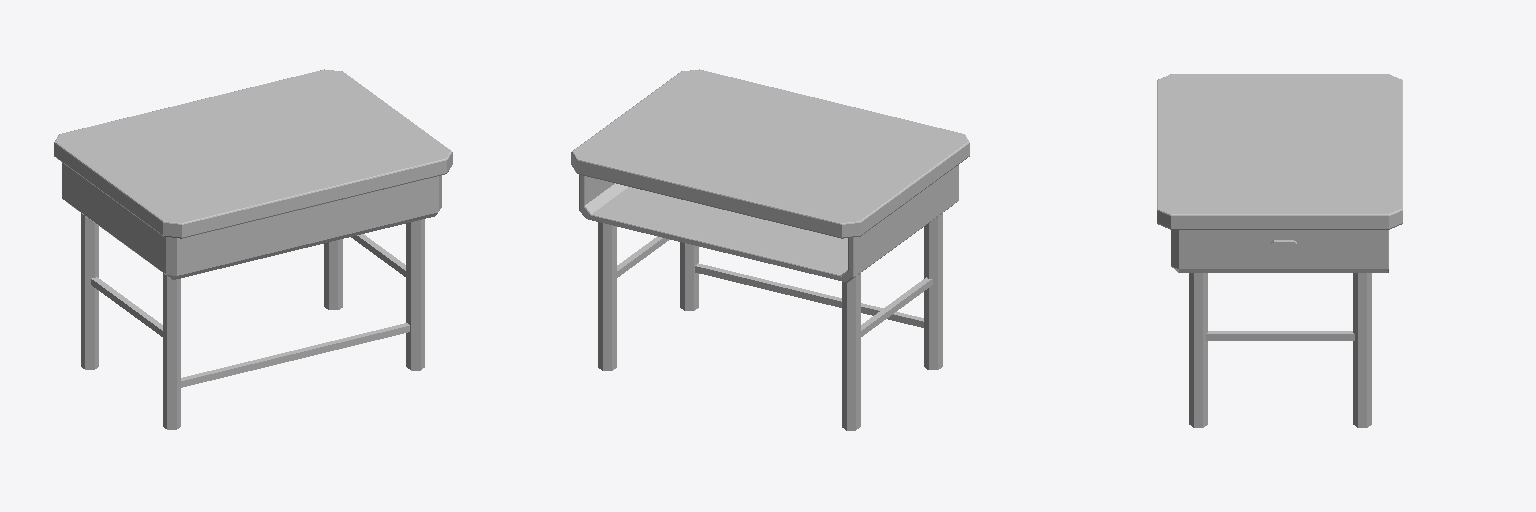
Rendered from hor2 table.obj.
The picture shows the model from 3 angles: view 1: azimuth 30°, elevation 25°; view 2: azimuth 150°, elevation 25°; view 3: azimuth 270°, elevation 25°; orthographic projection.
Visible parts, largest first — view 1: Plane.005; view 2: Plane.005; view 3: Plane.005.
Boxes of the visible parts, x1=… form: Plane.005: x1=54, y1=69, x2=452, y2=429; Plane.005: x1=571, y1=69, x2=969, y2=430; Plane.005: x1=1157, y1=74, x2=1402, y2=427.
Bounding box in the file's own units: 0.9783 × 0.7 × 0.7073.